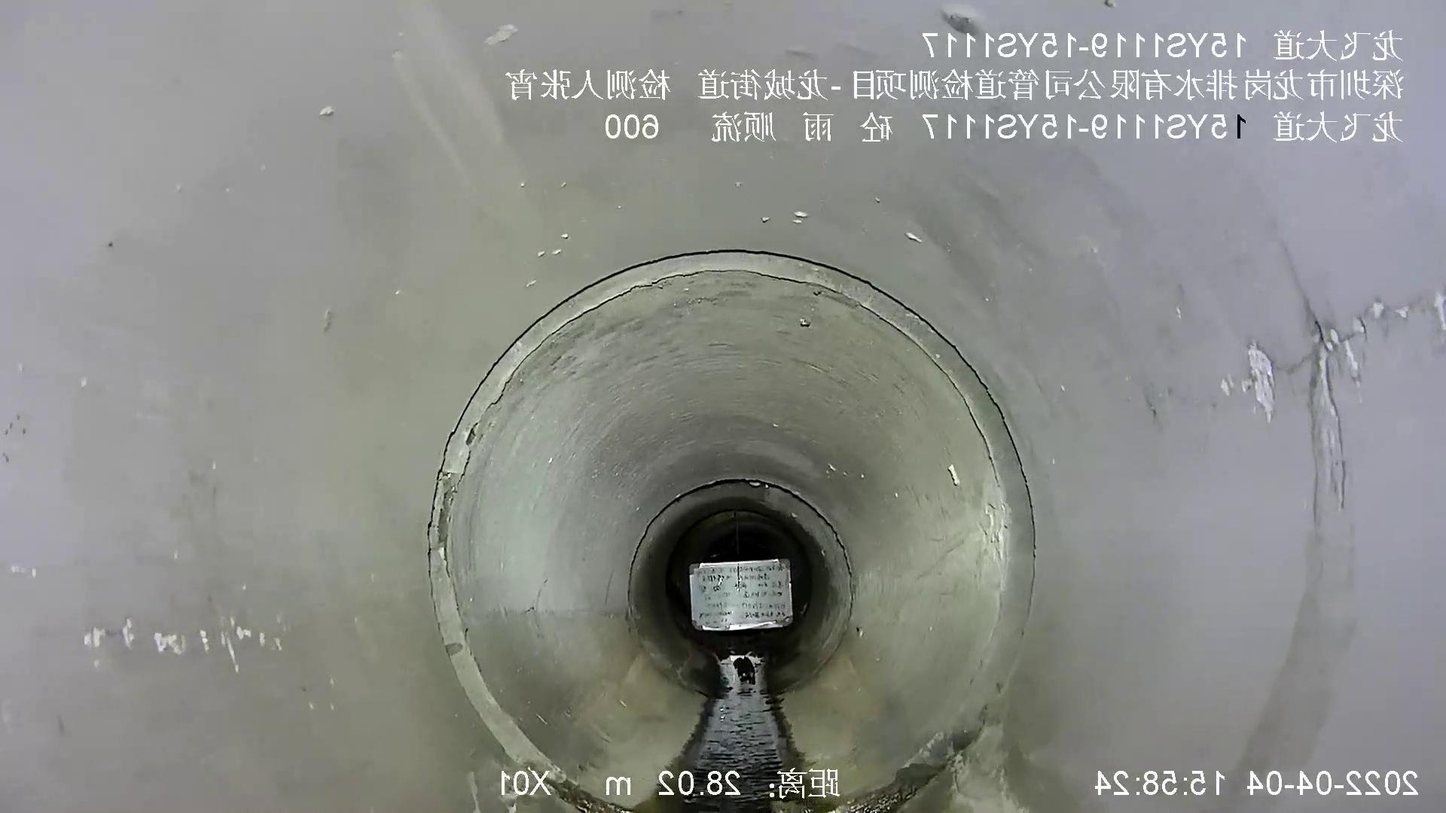CKTJ: (427, 250, 1035, 812), (622, 476, 857, 659)
